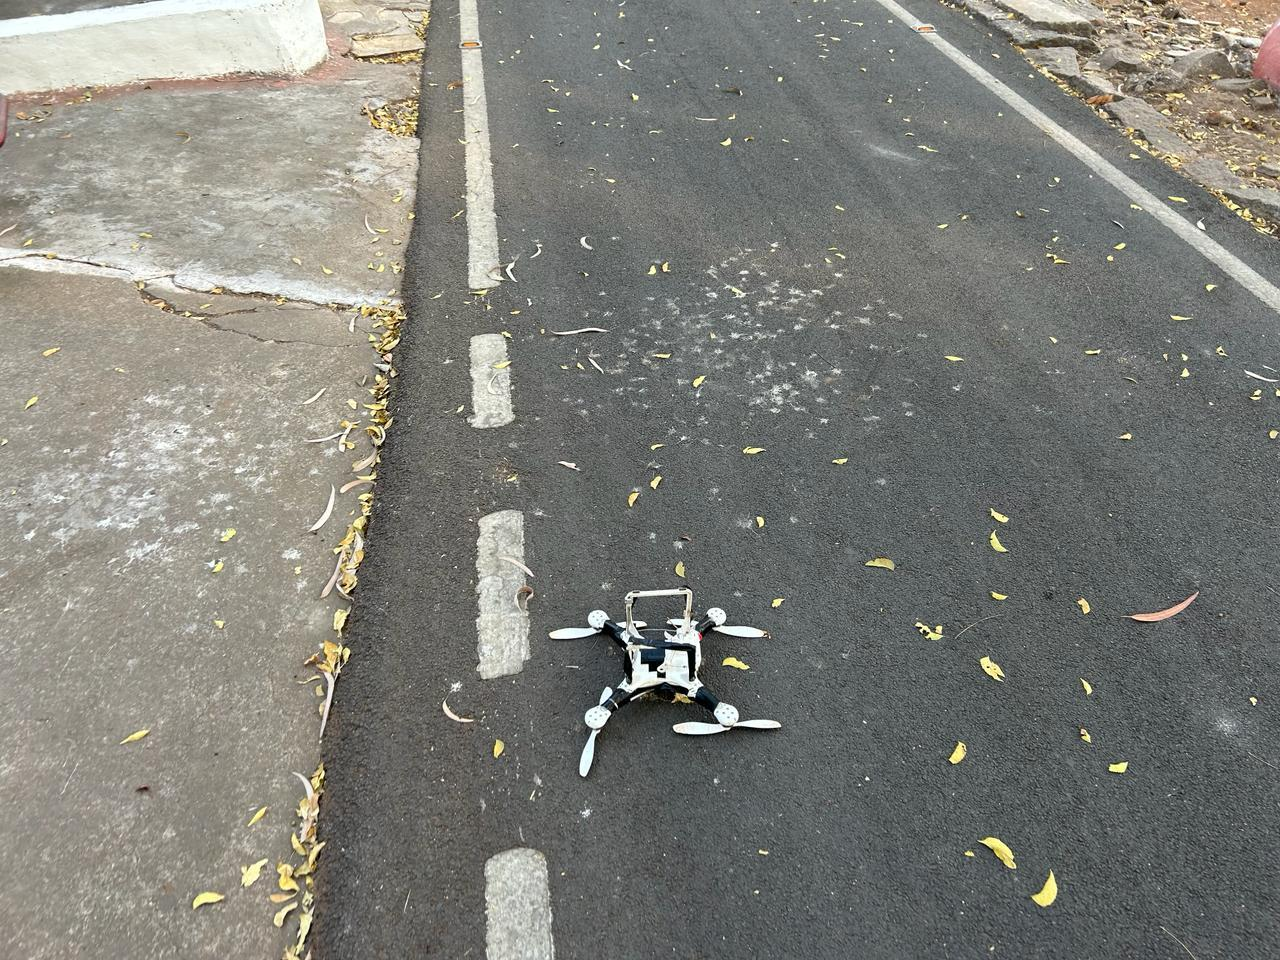drone: (528, 530, 825, 809)
